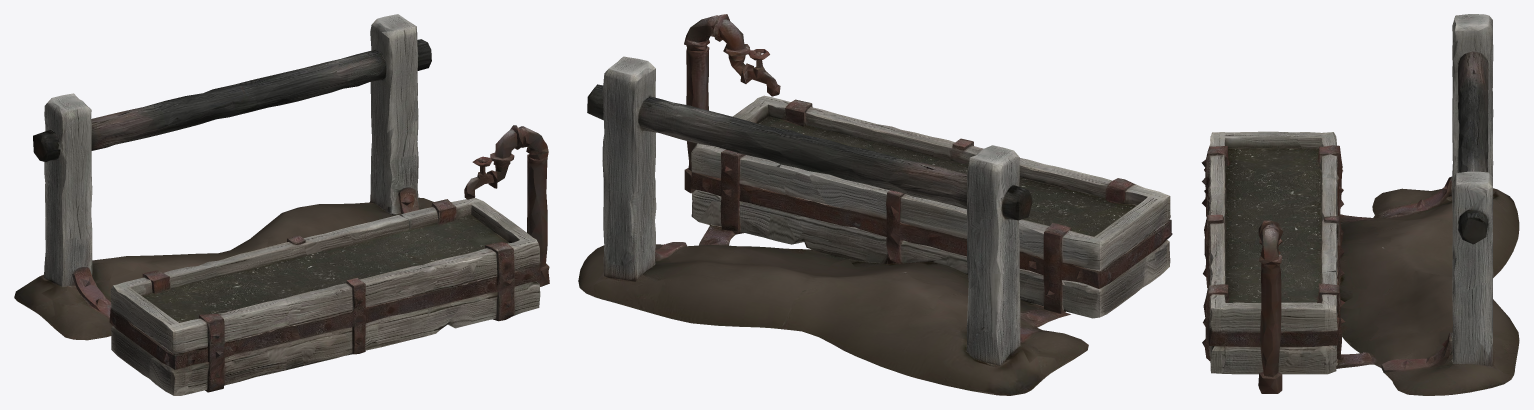
File: hitching_post.glb
3 views of the same model, side by side, from view 1: azimuth 30°, elevation 25°; view 2: azimuth 150°, elevation 25°; view 3: azimuth 270°, elevation 25° (orthographic). The views are drawn at different scales.
Parts seen in each view (by area): view 1: mesh_node; view 2: mesh_node; view 3: mesh_node.
Part boxes in pixels (bbox=[...]): mesh_node: bbox=[14, 14, 549, 395]; mesh_node: bbox=[578, 14, 1172, 395]; mesh_node: bbox=[1201, 14, 1519, 395].
Size of the model in its own units: 1.9 by 0.8361 by 1.25.
1 material, 1 textured.
